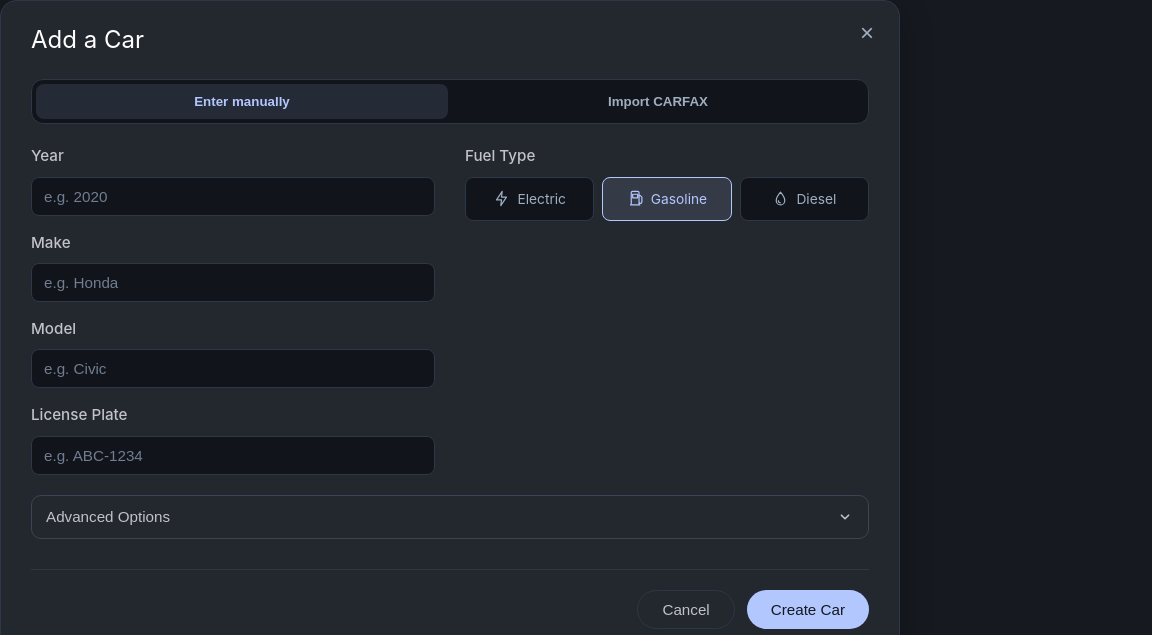
Scenario: CarForm › reveals and highlights an invalid price on submit
Click the button with class "advanced-toggle" at (108, 517), box [32,496,868,538]
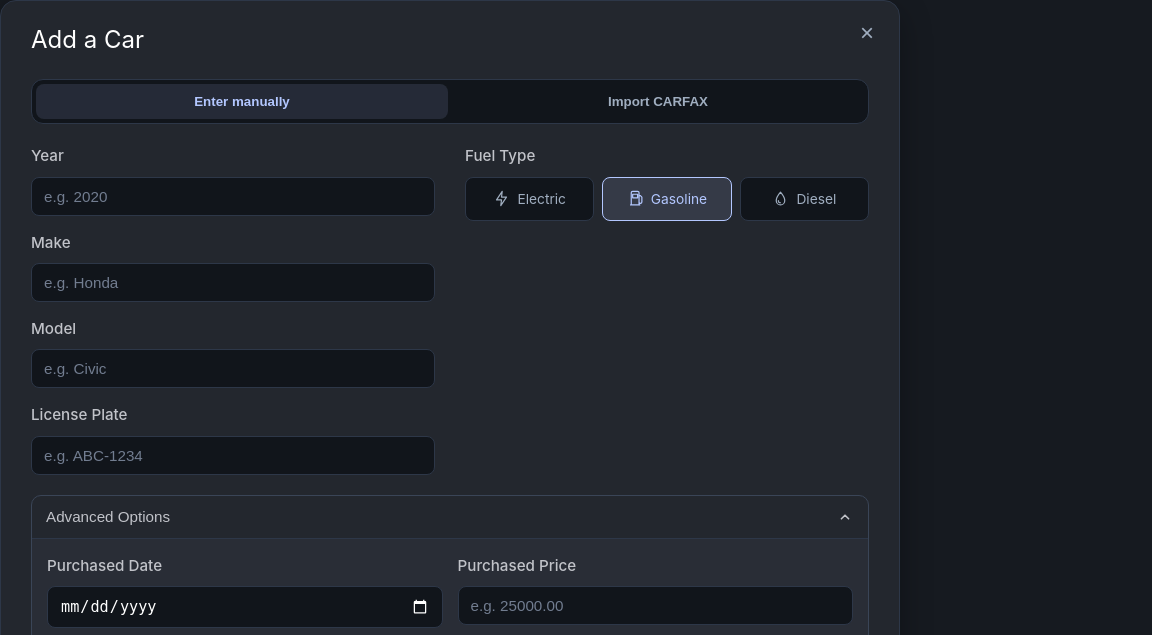
Type "not-a-price" into the field with placeholder "e.g. 25000.00" at (655, 606), box [458,586,853,625]
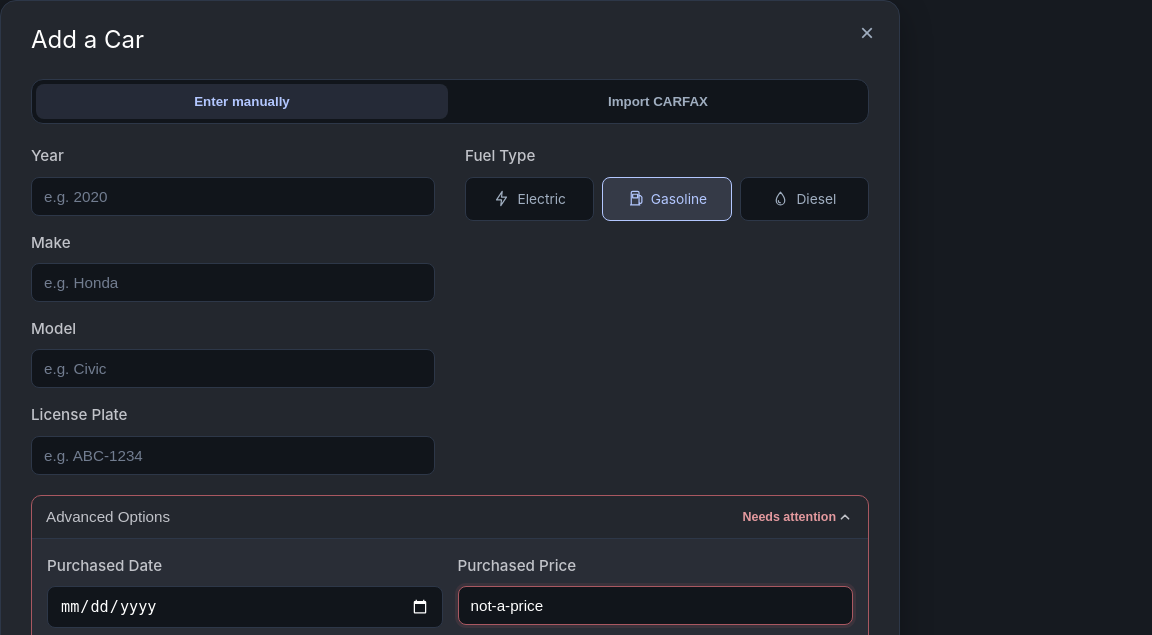
Click the button with class "advanced-toggle" at (108, 517), box [32,496,868,538]
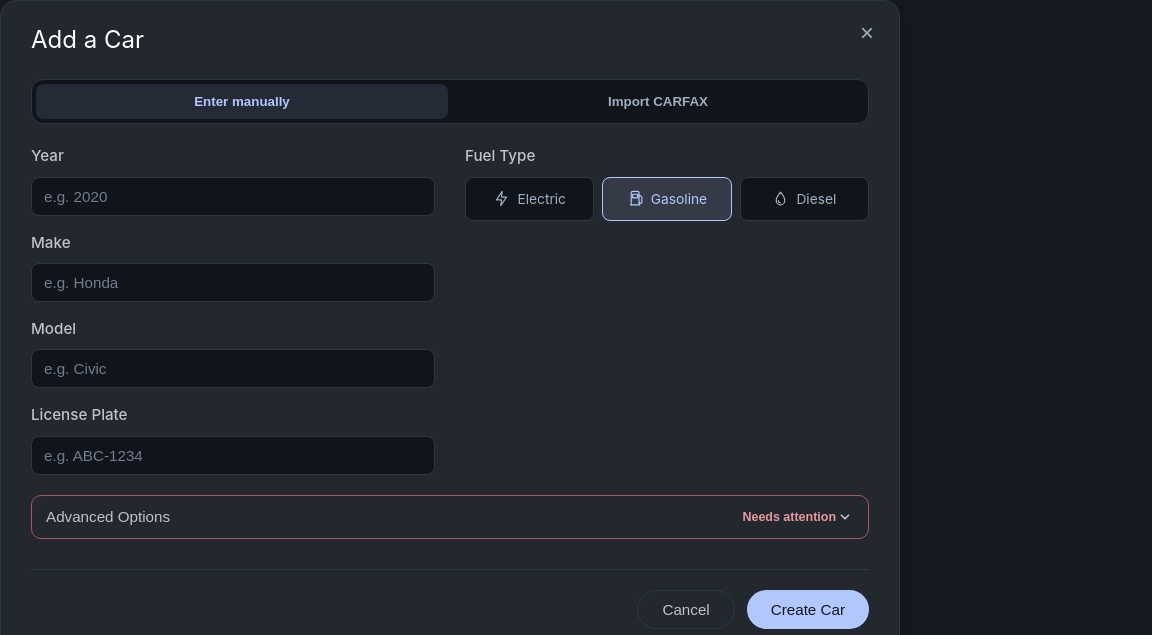
Result: the text with class "advanced-error-summary" reads "Needs attention" at [742,510,836,524]
Submit the form, box [31,144,869,629]
(page scrolled)
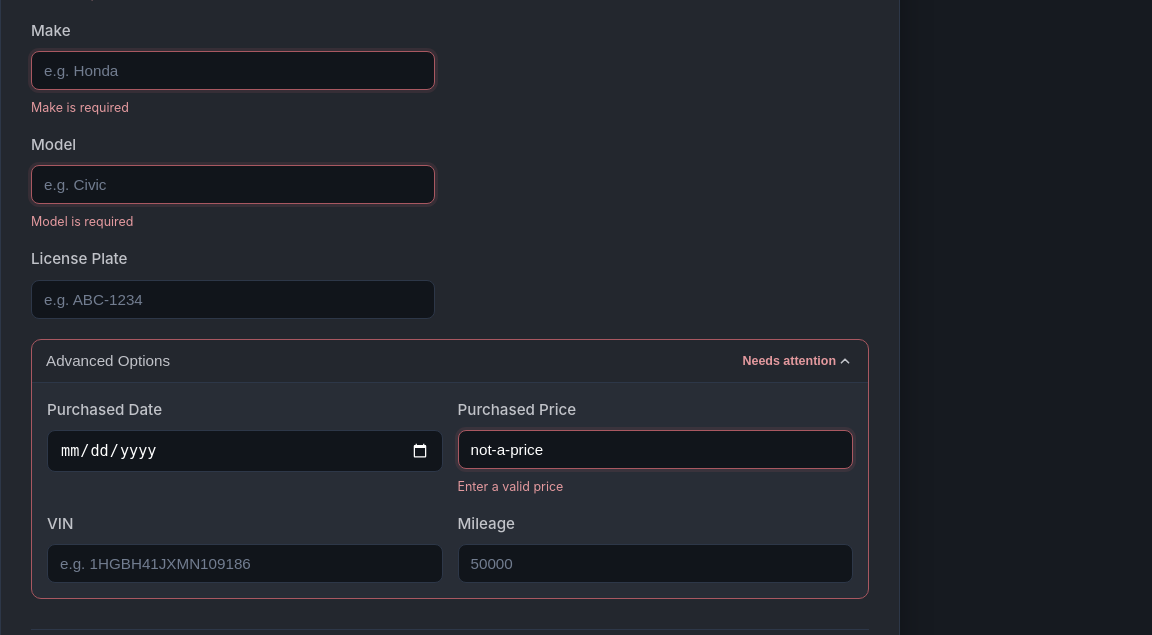
Result: the button with class "advanced-toggle" is expanded at [32,340,868,382]
Result: the text "Enter a valid price" is shown at [458,479,563,494]
